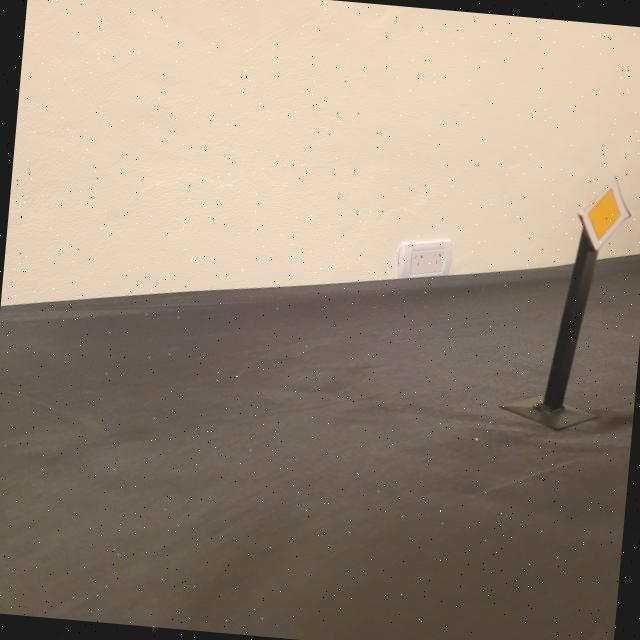priority: (574, 172, 635, 255)
